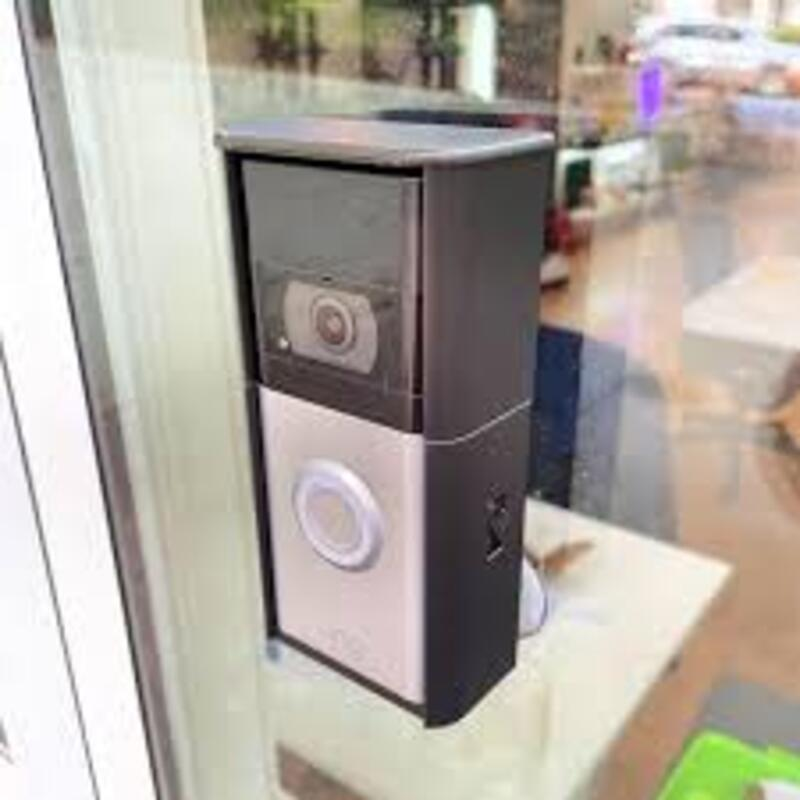doorbell: (216, 134, 454, 683)
